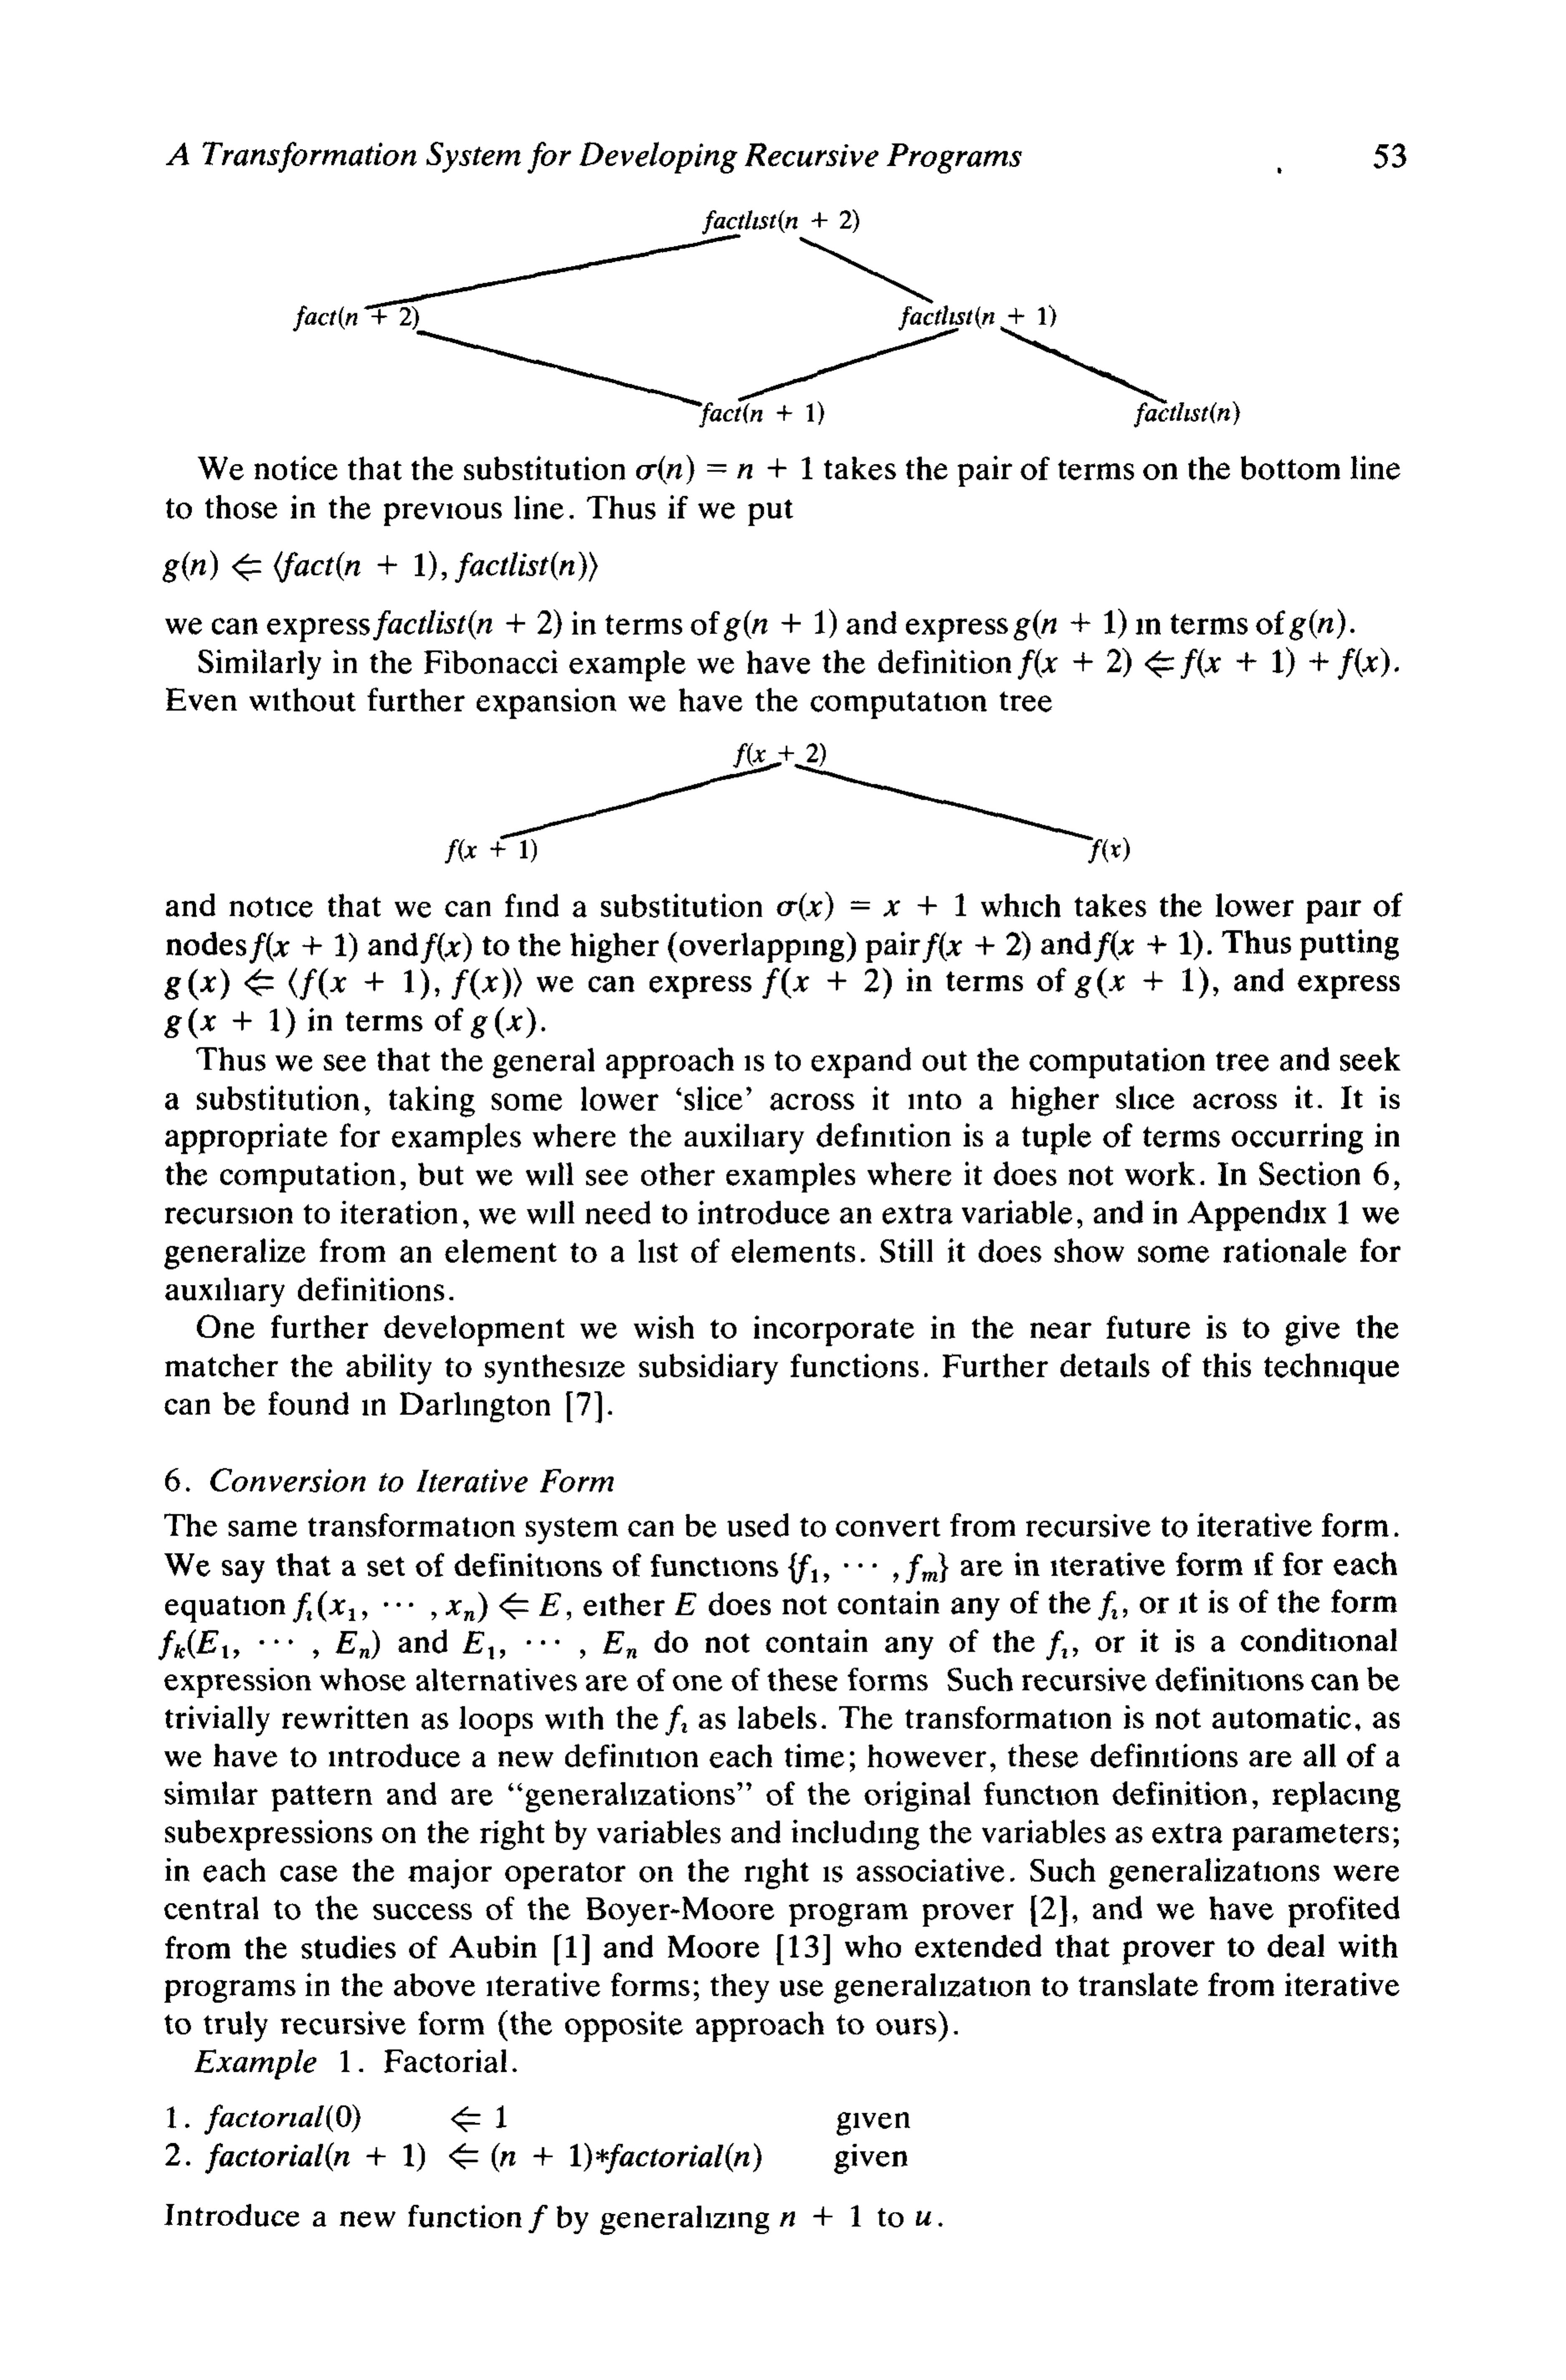maths: (206, 2142, 762, 2174), (163, 550, 598, 584), (1017, 647, 1389, 680), (294, 1588, 561, 1623), (164, 968, 440, 1001), (159, 1629, 379, 1660), (374, 610, 563, 641), (776, 891, 967, 921), (788, 1552, 949, 1585), (636, 454, 813, 484), (204, 2104, 360, 2134), (1075, 966, 1208, 1000), (164, 1007, 295, 1040), (762, 968, 891, 1000), (724, 608, 837, 641), (1014, 608, 1126, 641), (1094, 930, 1202, 963), (923, 931, 1031, 963), (250, 931, 357, 963), (451, 968, 523, 1000), (470, 1007, 537, 1040), (1290, 608, 1346, 641), (780, 2205, 862, 2226), (421, 933, 472, 963), (451, 2106, 507, 2132), (603, 1630, 638, 1658), (463, 1630, 495, 1660), (666, 1704, 687, 1735), (1047, 1630, 1068, 1660), (1098, 1590, 1117, 1622), (528, 2205, 547, 2233), (675, 1592, 696, 1615), (809, 1858, 823, 1889), (916, 2210, 932, 2226), (526, 1639, 559, 1644)
